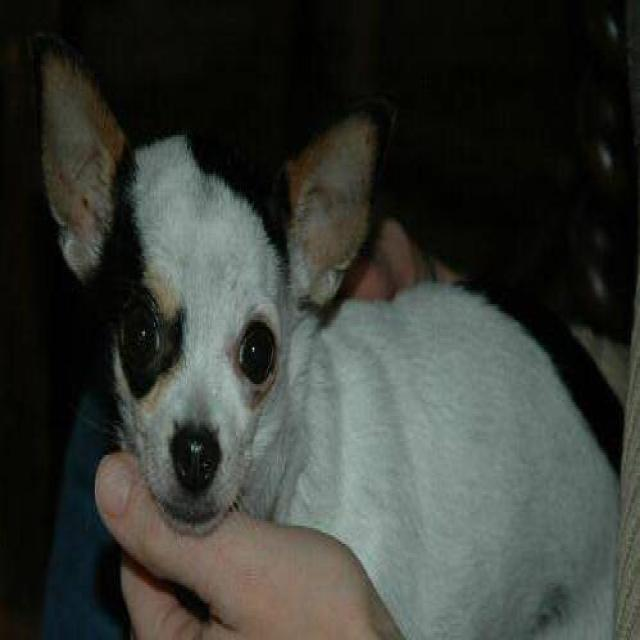dog: (35, 30, 623, 638)
